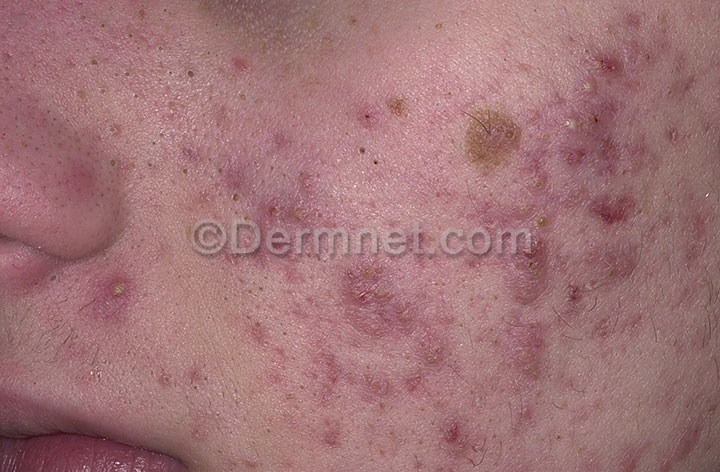Acne: (131, 43, 686, 450)
